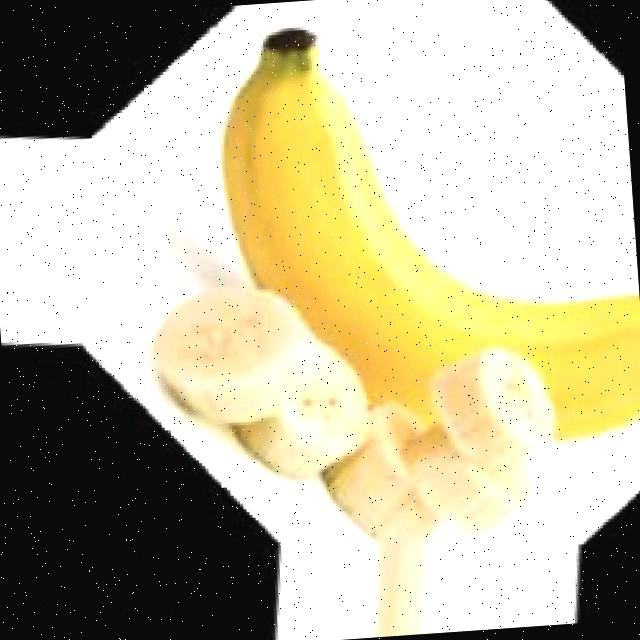banana: (176, 40, 640, 527)
